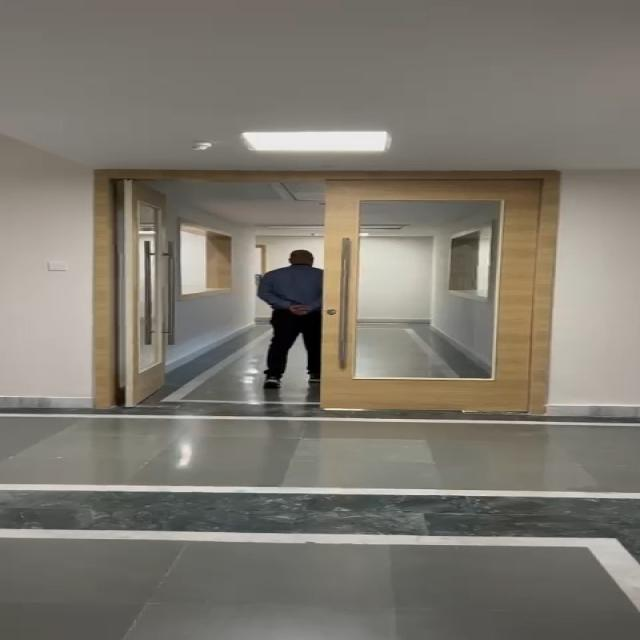door: (313, 172, 556, 410)
floor: (0, 414, 640, 640)
moving_object: (251, 238, 334, 394)
wall: (0, 145, 92, 399), (563, 168, 640, 408)
